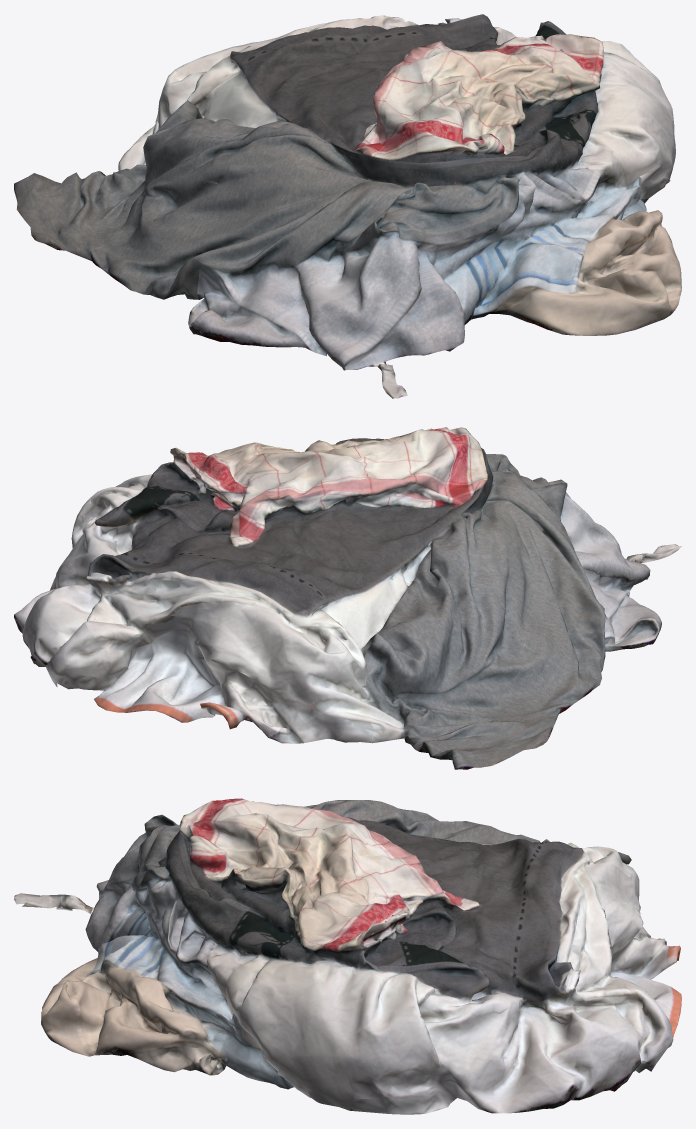
Rendered from DirtyClothes1.fbx.
3 renders of one model, top to bottom at view 1: azimuth 30°, elevation 25°; view 2: azimuth 150°, elevation 25°; view 3: azimuth 270°, elevation 25°, orthographic. The views are drawn at different scales.
Visible parts, largest first — view 1: Dirty Rags; view 2: Dirty Rags; view 3: Dirty Rags.
Boxes of the visible parts, <box> form: Dirty Rags: <box>14,14,681,398</box>; Dirty Rags: <box>14,427,681,769</box>; Dirty Rags: <box>14,798,681,1114</box>.
Bounding box in the file's own units: 122 × 36.94 × 126.
Materials: 1 (1 with a texture image).
